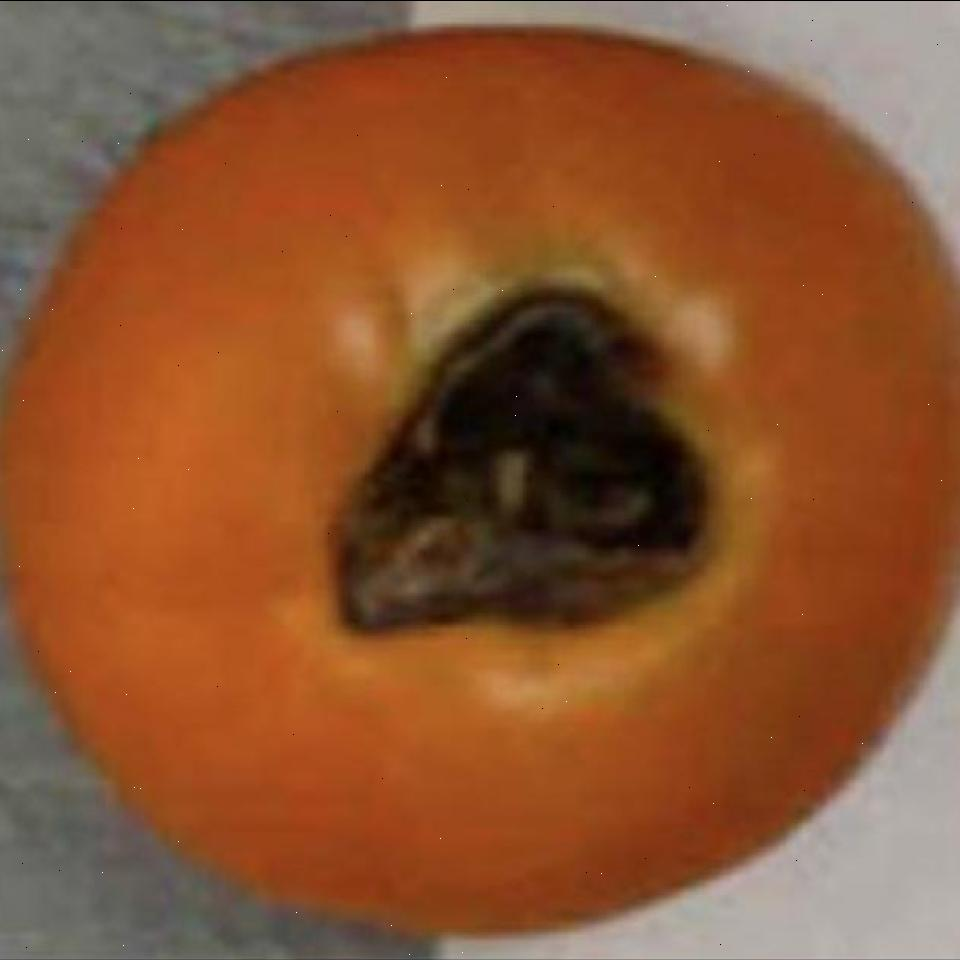Blossom_end_rot: (271, 256, 736, 650)
